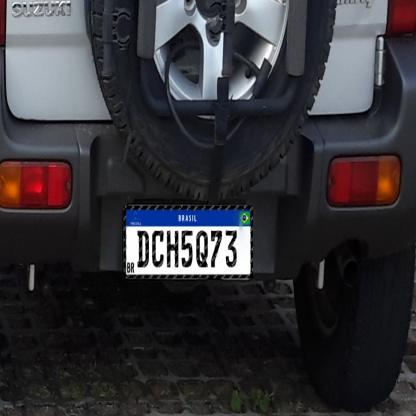PlacaM: (124, 206, 253, 278)
